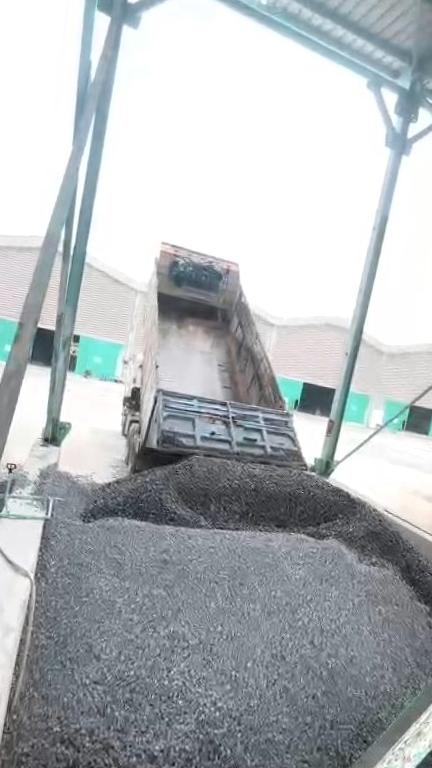gravel: (1, 462, 432, 768), (82, 457, 418, 584), (408, 738, 432, 768)
sand: (424, 495, 432, 548)
